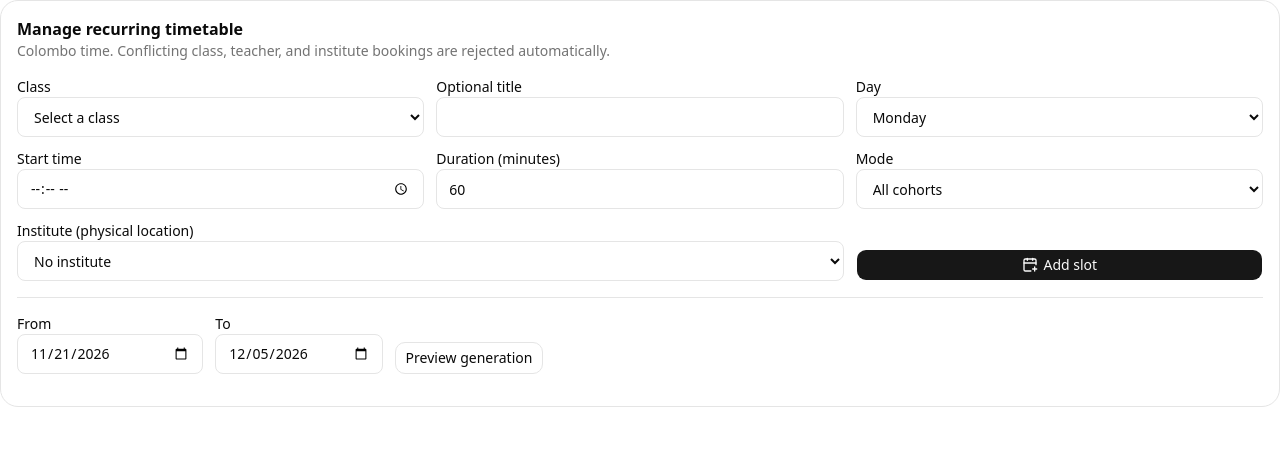
Scenario: TimetableManager › previews before generation and idempotently generates only missing sessions
Later steps or results of the test are not shown.
Click the button "Preview generation": (469, 358) [395,342,543,374]
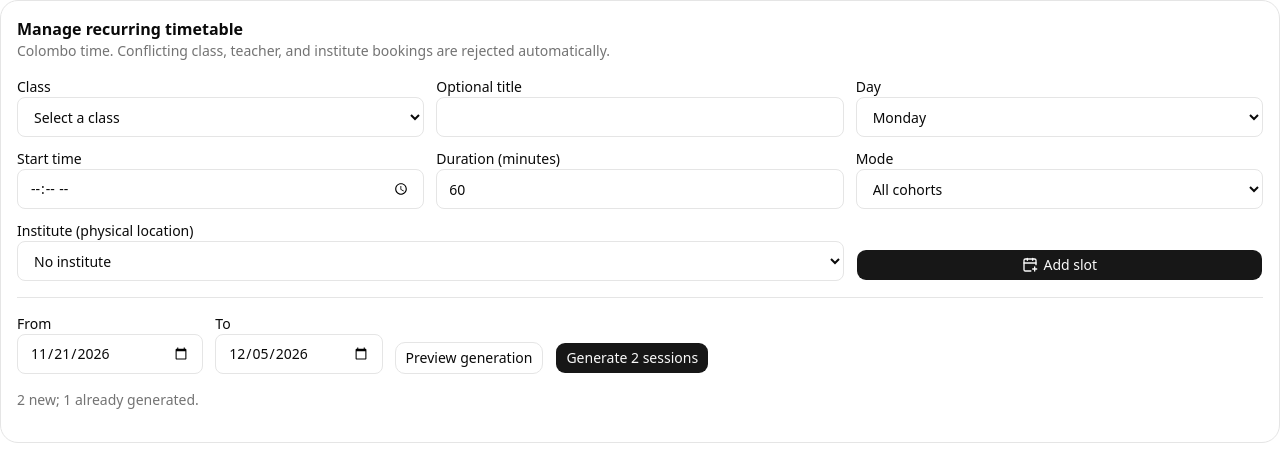
Result: the text "2 new; 1 already generated." is shown at [17,390,199,409]
